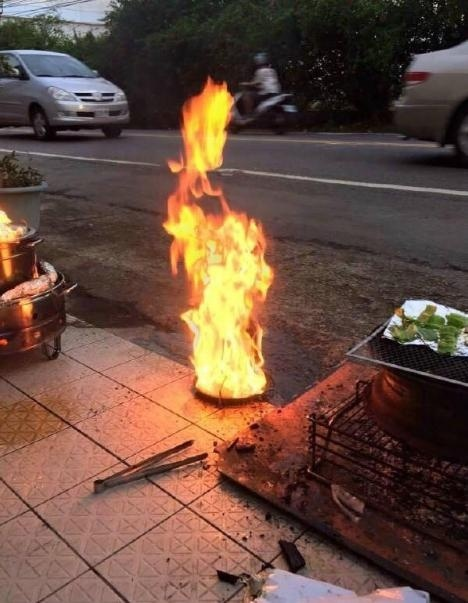fire: (157, 61, 278, 413)
